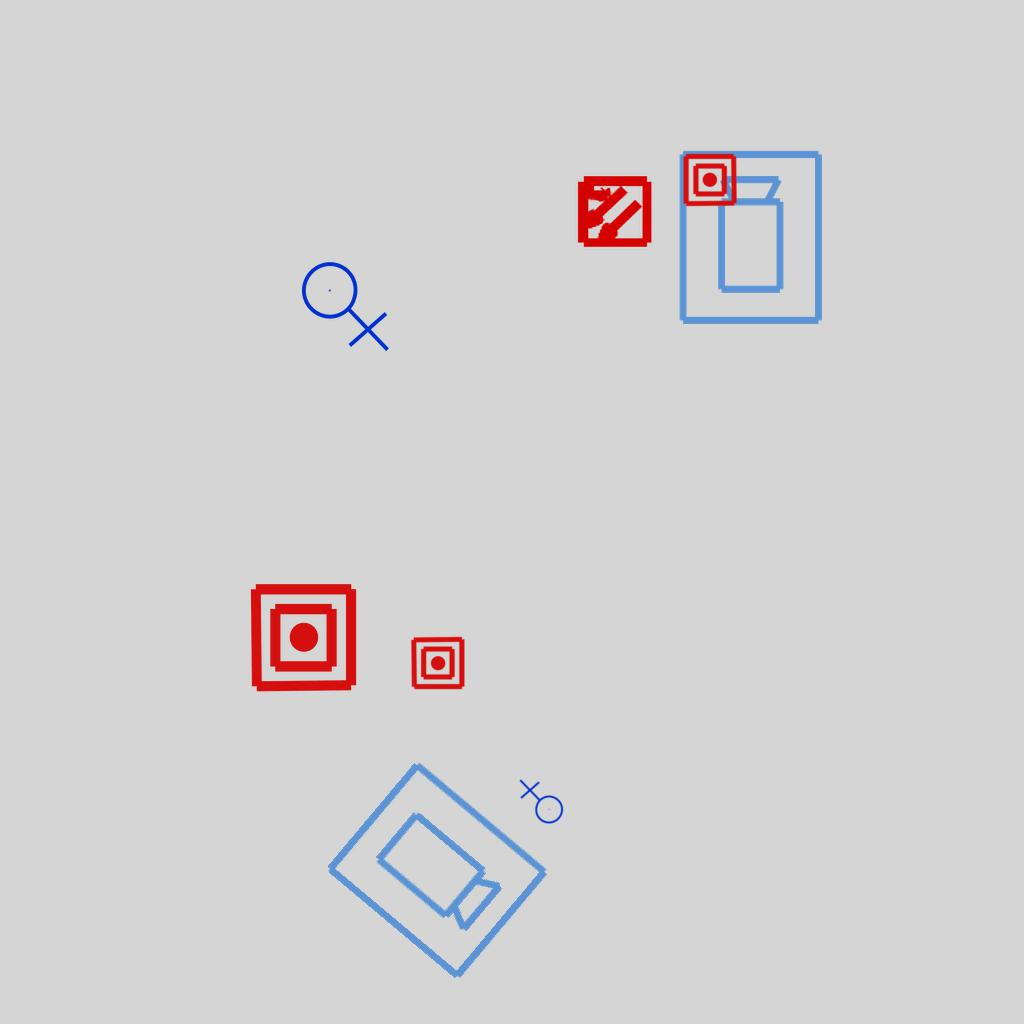Elektroanschluss_allgemein_230V_Geraeteanschlussdose_230V: (300, 253, 394, 352), (517, 779, 564, 828)
KFO_Kamera_mit_Festobjektiv: (316, 753, 556, 989), (675, 147, 829, 329)
NAM-Nichtautomatischer_Melder: (247, 581, 360, 694), (410, 635, 466, 691), (682, 152, 738, 208)
OT_Multisensormelder_(Kombination_RMO_WMD): (556, 155, 669, 268)
